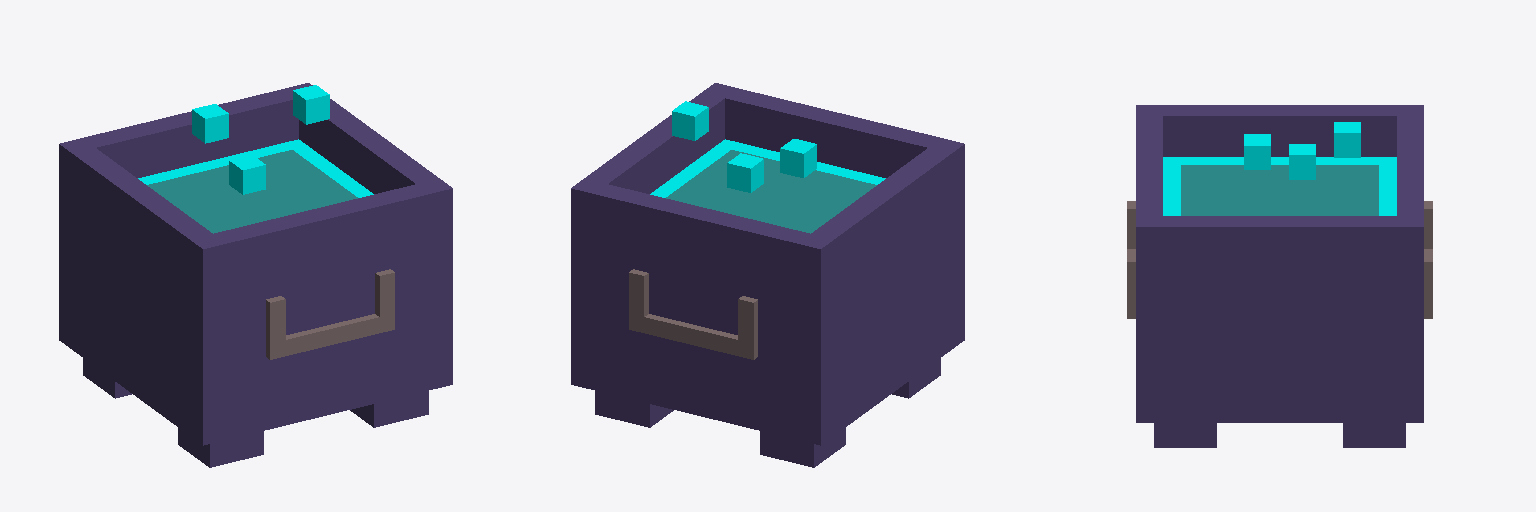
The picture shows the model from 3 angles: view 1: azimuth 30°, elevation 25°; view 2: azimuth 150°, elevation 25°; view 3: azimuth 270°, elevation 25°; orthographic projection.
Size of the model in its own units: 32 by 34 by 34.
Materials: 1 (1 with a texture image).